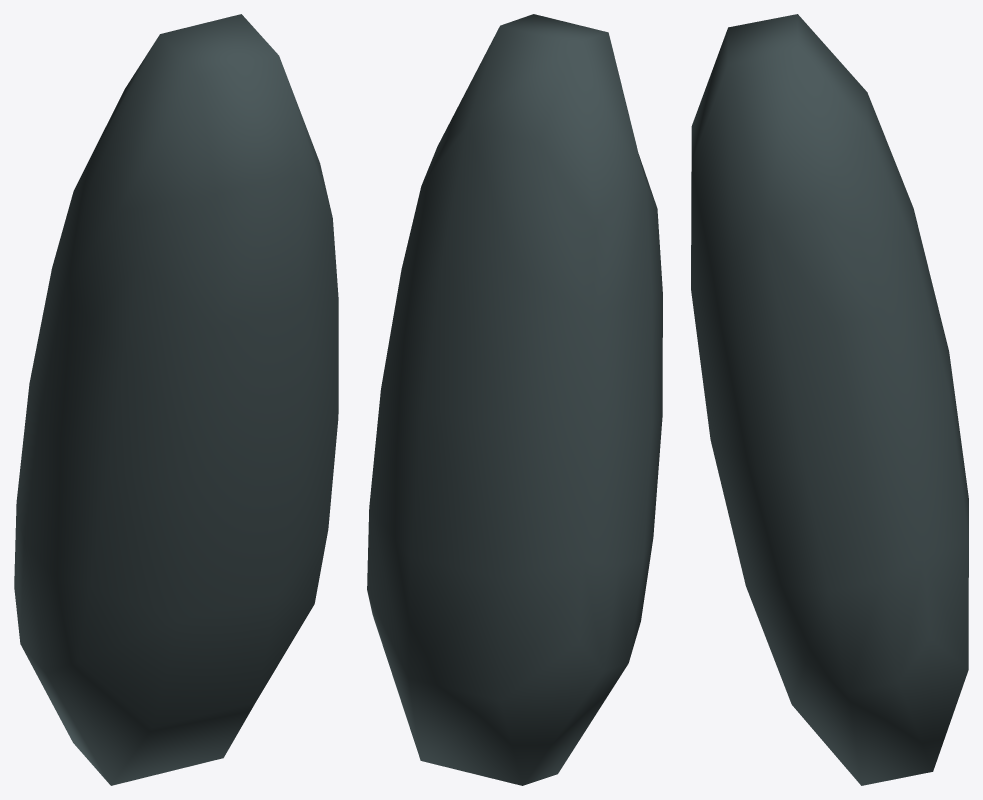
The model's file is CrownFeather.fbx.
3 renders of one model, left to right at view 1: azimuth 30°, elevation 25°; view 2: azimuth 150°, elevation 25°; view 3: azimuth 270°, elevation 25°, orthographic. The views are drawn at different scales.
Parts seen in each view (by area): view 1: Mesh.001; view 2: Mesh.001; view 3: Mesh.001.
Boxes of the visible parts, x1,y1,x2,y2 form: Mesh.001: (14, 14, 338, 785); Mesh.001: (367, 14, 662, 785); Mesh.001: (691, 14, 968, 785).
Bounding box in the file's own units: 3.08 × 8.51 × 2.94.
